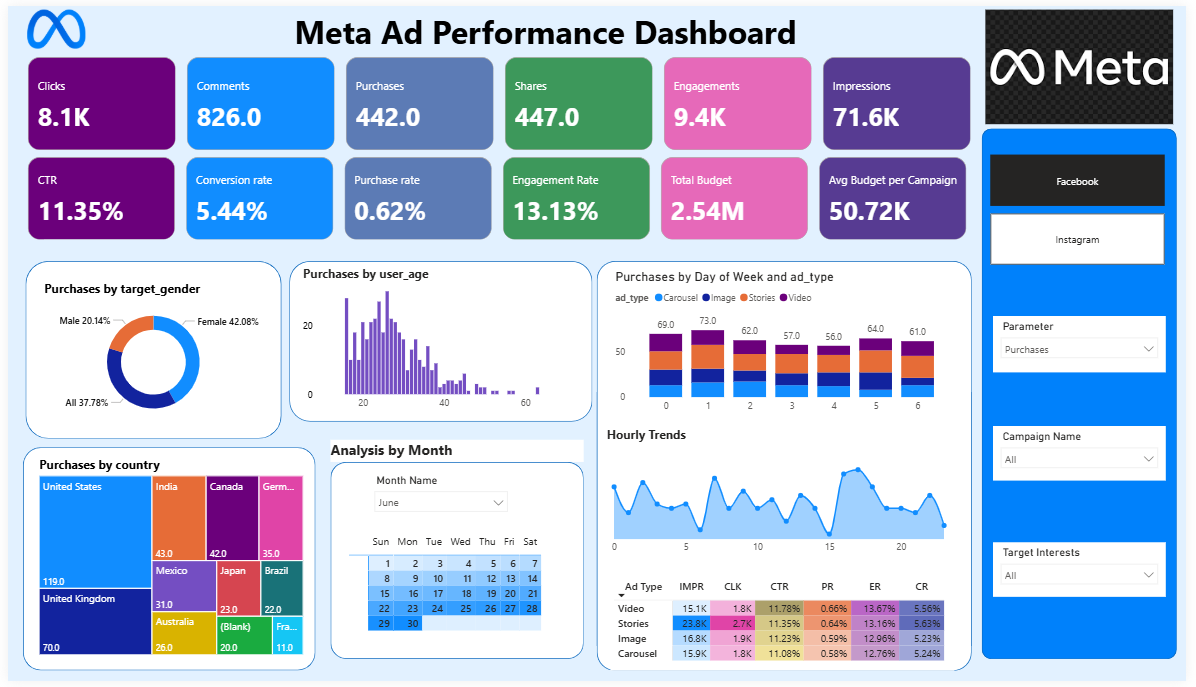

Layout of this report page (visuals, bound fields, positions):
{"tool":"powerbi","page":{"name":"Facebook","canvas":[1570,900],"ordinal":0},"visuals":[{"type":"textbox","box":[146,0,1140,82],"z":0},{"type":"image","box":[0,0,128.3,61.7],"z":1000},{"type":"shape","box":[1297.5,162.5,260,707.5],"z":2000},{"type":"cardVisual","fields":{"Data":["ad_events csv.Clicks","ad_events csv.Comments","ad_events csv.Purchases","ad_events csv.Shares","ad_events csv.Engagements","ad_events csv.Impressions"]},"box":[22,64,1270,134],"z":3000},{"type":"cardVisual","fields":{"Data":["ad_events csv.CTR","ad_events csv.Conversion rate","ad_events csv.Purchase rate","ad_events csv.Engagement Rate","ad_events csv.Total Budget","ad_events csv.Avg Budget per Campaign"]},"box":[21.7,196.7,1265,120],"z":4000},{"type":"slicer","fields":{"Values":["Parameter.Parameter"]},"box":[1312.5,412.5,230,75],"z":5000},{"type":"image","box":[1297.5,0,260,162.5],"z":6000},{"type":"slicer","fields":{"Values":["campaigns csv.name"]},"box":[1312.5,560,230,72.5],"z":7000},{"type":"slicer","fields":{"Values":["ads csv.target_interests"]},"box":[1312.5,715,230,72.5],"z":8000},{"type":"pageNavigator","box":[1310,197.5,232.5,147.5],"z":9000},{"type":"shape","box":[22.9,340,341.4,237.1],"z":10000},{"type":"donutChart","fields":{"Y":["ad_events csv.Purchases"],"Category":["ads csv.target_gender"]},"box":[42.9,364.3,301.4,195.7],"z":11000},{"type":"shape","box":[374.3,340,404.3,214.3],"z":12000},{"type":"columnChart","fields":{"Y":["ad_events csv.Purchases"],"Category":["users csv.user_age"]},"box":[388.6,344.3,368.6,202.9],"z":13000},{"type":"shape","box":[20,587.5,390,297.5],"z":14000},{"type":"treemap","fields":{"Values":["ad_events csv.Purchases"],"Group":["users csv.country"]},"box":[36,600,362,270],"z":15000},{"type":"shape","title":"Analysis by Month","box":[430,577.5,337.5,292.5],"z":16000},{"type":"pivotTable","fields":{"Columns":["Calendar_Table.Day Name"],"Rows":["Calendar_Table.Week of Year"],"Values":["Sum(Calendar_Table.Day)"]},"box":[450,698,296,154],"z":17000},{"type":"slicer","fields":{"Values":["Calendar_Table.Month Name"]},"box":[478,618,198,62],"z":18000},{"type":"shape","box":[785,340,500,546.7],"z":19000},{"type":"areaChart","title":"Hourly Trends","fields":{"Y":["ad_events csv.Purchases"],"Category":["ad_events csv.Hour"]},"box":[793.3,560,470,180],"z":20000},{"type":"pivotTable","fields":{"Values":["ad_events csv.Impressions","ad_events csv.Clicks","ad_events csv.CTR","ad_events csv.Purchase rate","ad_events csv.Engagement Rate","ad_events csv.Conversion rate"],"Rows":["ads csv.ad_type"]},"box":[803.3,758.3,458.3,128.3],"z":21000},{"type":"columnChart","fields":{"Y":["ad_events csv.Purchases"],"Series":["ads csv.ad_type"],"Category":["Calendar_Table.Day of Week"]},"box":[805,350,458.3,201.7],"z":22000}]}

Visuals, with their boxes in screenshot pixels (x1, y1, x2, y2), scaled from the page's 1570x900 canvas onto the 1196x687 screenshot:
textbox: {"left": 111, "top": 0, "right": 980, "bottom": 63}
image: {"left": 0, "top": 0, "right": 98, "bottom": 47}
shape: {"left": 988, "top": 124, "right": 1186, "bottom": 664}
cardVisual - ad_events csv.Clicks x ad_events csv.Comments: {"left": 17, "top": 49, "right": 984, "bottom": 151}
cardVisual - ad_events csv.CTR x ad_events csv.Conversion rate: {"left": 17, "top": 150, "right": 980, "bottom": 242}
slicer - Parameter.Parameter: {"left": 1000, "top": 315, "right": 1175, "bottom": 372}
image: {"left": 988, "top": 0, "right": 1186, "bottom": 124}
slicer - campaigns csv.name: {"left": 1000, "top": 427, "right": 1175, "bottom": 483}
slicer - ads csv.target_interests: {"left": 1000, "top": 546, "right": 1175, "bottom": 601}
pageNavigator: {"left": 998, "top": 151, "right": 1175, "bottom": 263}
shape: {"left": 17, "top": 260, "right": 278, "bottom": 441}
donutChart - ad_events csv.Purchases x ads csv.target_gender: {"left": 33, "top": 278, "right": 262, "bottom": 427}
shape: {"left": 285, "top": 260, "right": 593, "bottom": 423}
columnChart - ad_events csv.Purchases x users csv.user_age: {"left": 296, "top": 263, "right": 577, "bottom": 418}
shape: {"left": 15, "top": 448, "right": 312, "bottom": 676}
treemap - ad_events csv.Purchases x users csv.country: {"left": 27, "top": 458, "right": 303, "bottom": 664}
"Analysis by Month" shape: {"left": 328, "top": 441, "right": 585, "bottom": 664}
pivotTable - Calendar_Table.Day Name x Calendar_Table.Week of Year: {"left": 343, "top": 533, "right": 568, "bottom": 650}
slicer - Calendar_Table.Month Name: {"left": 364, "top": 472, "right": 515, "bottom": 519}
shape: {"left": 598, "top": 260, "right": 979, "bottom": 677}
"Hourly Trends" areaChart: {"left": 604, "top": 427, "right": 962, "bottom": 565}
pivotTable - ad_events csv.Impressions x ad_events csv.Clicks: {"left": 612, "top": 579, "right": 961, "bottom": 677}
columnChart - ad_events csv.Purchases x ads csv.ad_type: {"left": 613, "top": 267, "right": 962, "bottom": 421}
